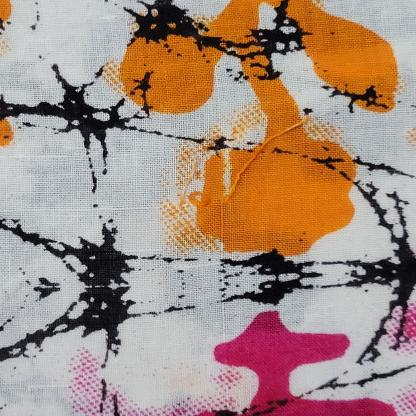spot: (154, 281, 168, 289)
